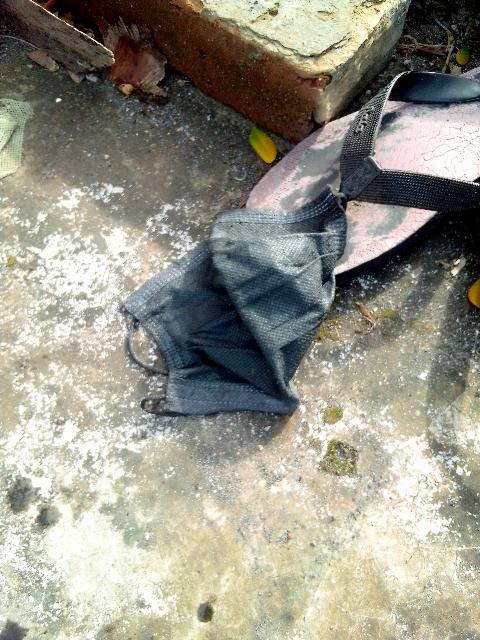mask: (142, 223, 326, 410)
